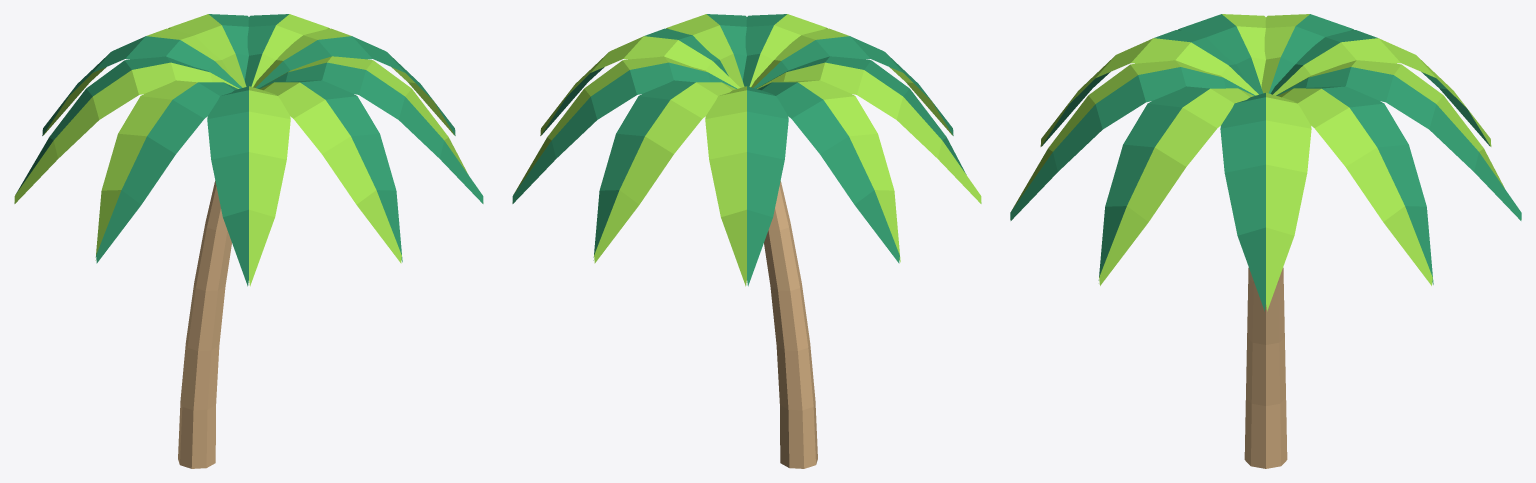
The model's file is palm_a.glb.
3 renders of one model, left to right at view 1: azimuth 30°, elevation 25°; view 2: azimuth 150°, elevation 25°; view 3: azimuth 270°, elevation 25°, orthographic. The views are drawn at different scales.
Parts seen in each view (by area): view 1: Palm_A_Fronds, Palm_A_TaperedTrunk; view 2: Palm_A_Fronds, Palm_A_TaperedTrunk; view 3: Palm_A_Fronds, Palm_A_TaperedTrunk.
Boxes of the visible parts, <box> form: Palm_A_Fronds: <box>14,14,483,286</box>; Palm_A_TaperedTrunk: <box>178,181,231,468</box>; Palm_A_Fronds: <box>512,14,981,286</box>; Palm_A_TaperedTrunk: <box>764,181,817,468</box>; Palm_A_Fronds: <box>1010,14,1521,311</box>; Palm_A_TaperedTrunk: <box>1244,267,1287,468</box>.
Bounding box in the file's own units: 5.44 × 5.08 × 5.52.
